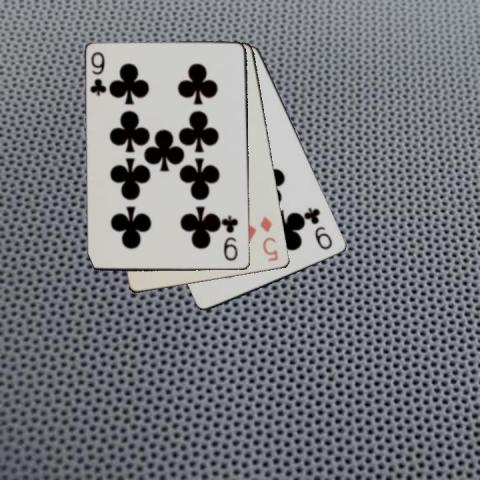5d: (257, 214, 280, 264)
9c: (304, 205, 335, 251), (88, 50, 108, 98), (223, 213, 240, 263)
